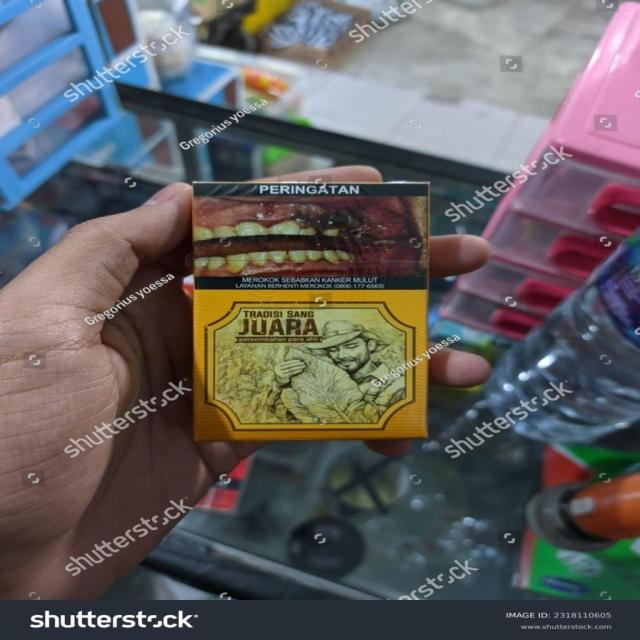smoking: (191, 181, 430, 440)
